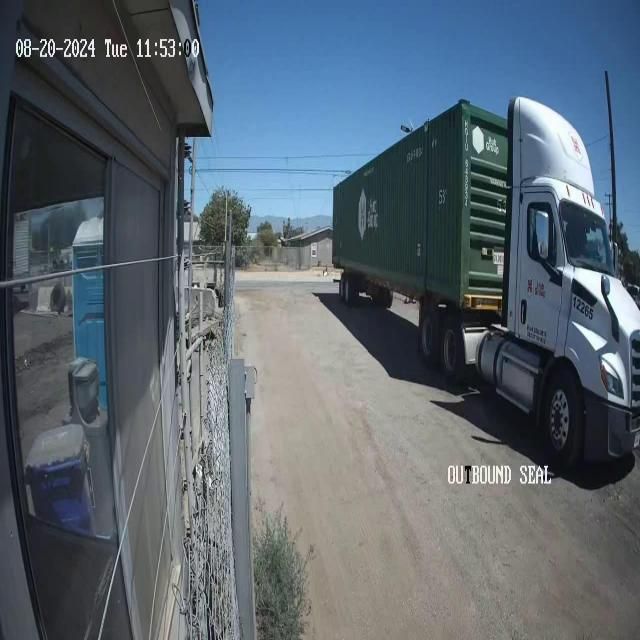TRUCK_IN: (331, 94, 639, 472)
